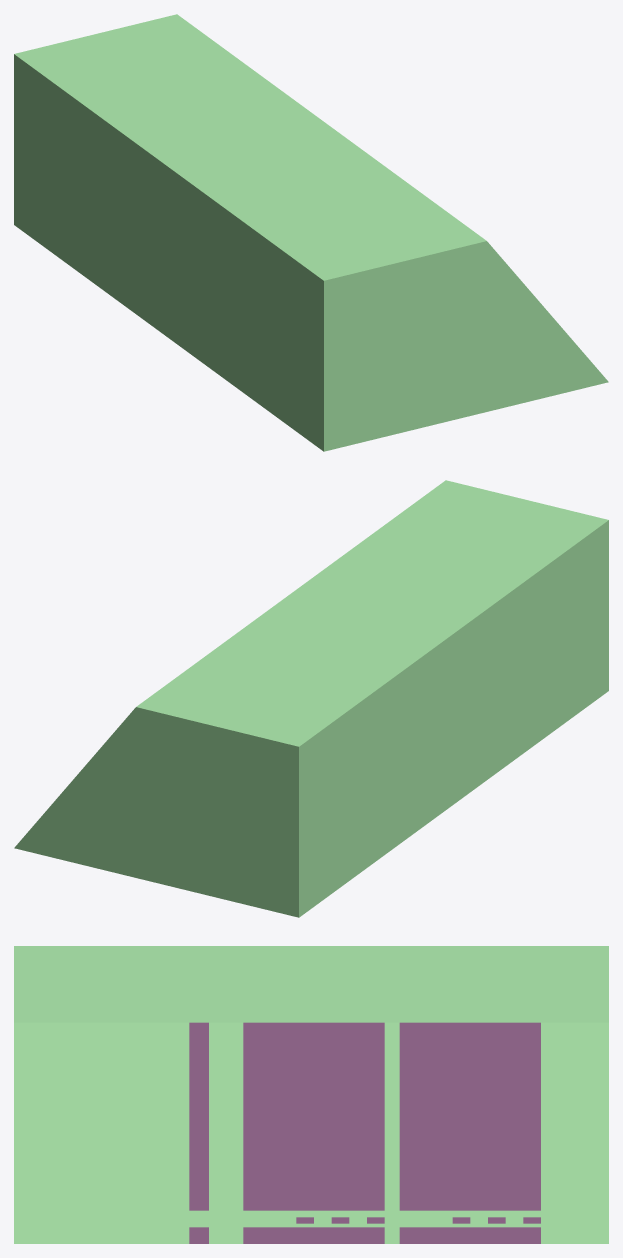
File: building2.glb
3 renders of one model, top to bottom at view 1: azimuth 30°, elevation 25°; view 2: azimuth 150°, elevation 25°; view 3: azimuth 270°, elevation 25°, orthographic. The views are drawn at different scales.
Visible parts, largest first — view 1: building2; view 2: building2; view 3: building2.
Part boxes in pixels (box(x1,y1,x2,y2)): building2: box(14, 14, 608, 451); building2: box(14, 480, 608, 917); building2: box(14, 946, 608, 1243).
Bounding box in the file's own units: 23.21 × 13.3 × 43.7.
